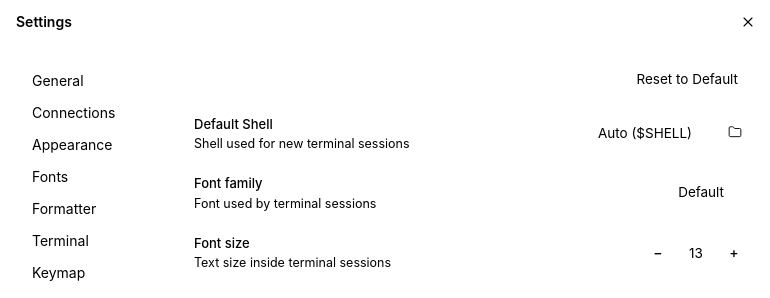
Test: SettingsView Terminal pane › picks a custom shell executable via the browse button
Click the button with test id "terminal-custom-shell-browse" at (735, 134), box [722,123,748,144]
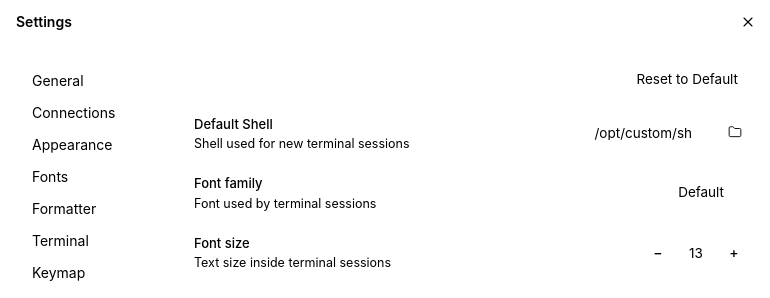
expect the text "/opt/custom/sh" is shown: met, box [594,127,692,140]
